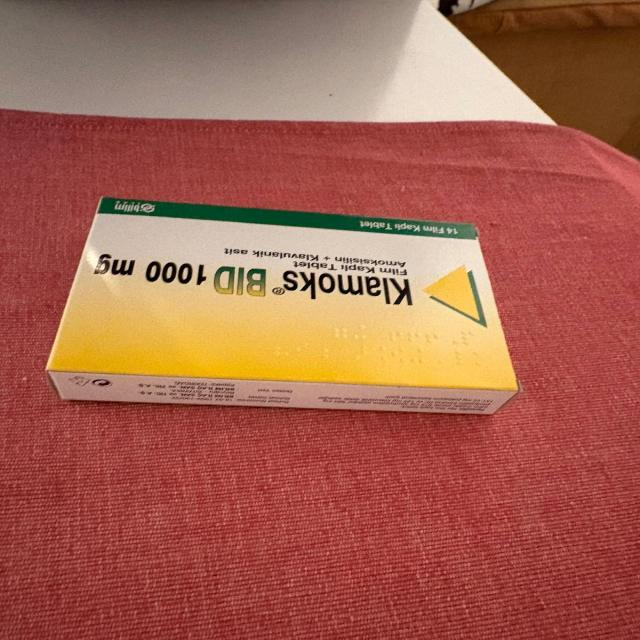good_package: (47, 196, 523, 417)
